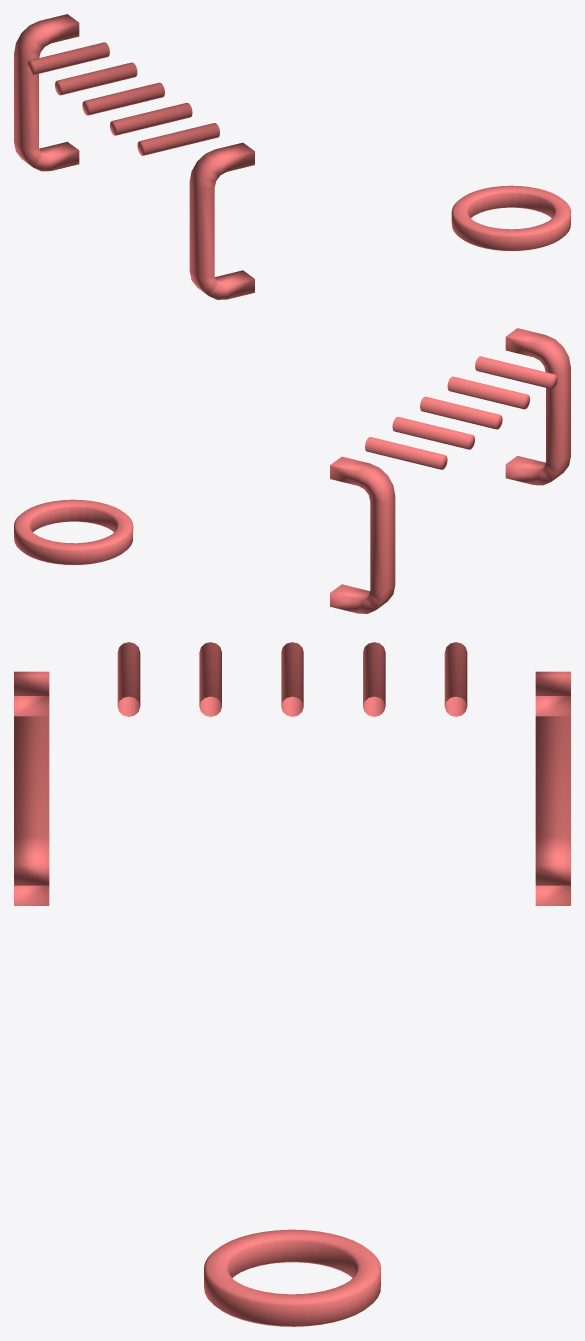
Rendered from solo12_hip_fe_6.obj.
3 renders of one model, top to bottom at view 1: azimuth 30°, elevation 25°; view 2: azimuth 150°, elevation 25°; view 3: azimuth 270°, elevation 25°, orthographic. The views are drawn at different scales.
Bounding box in the file's own units: 0.0254 × 0.0117 × 0.0173.
